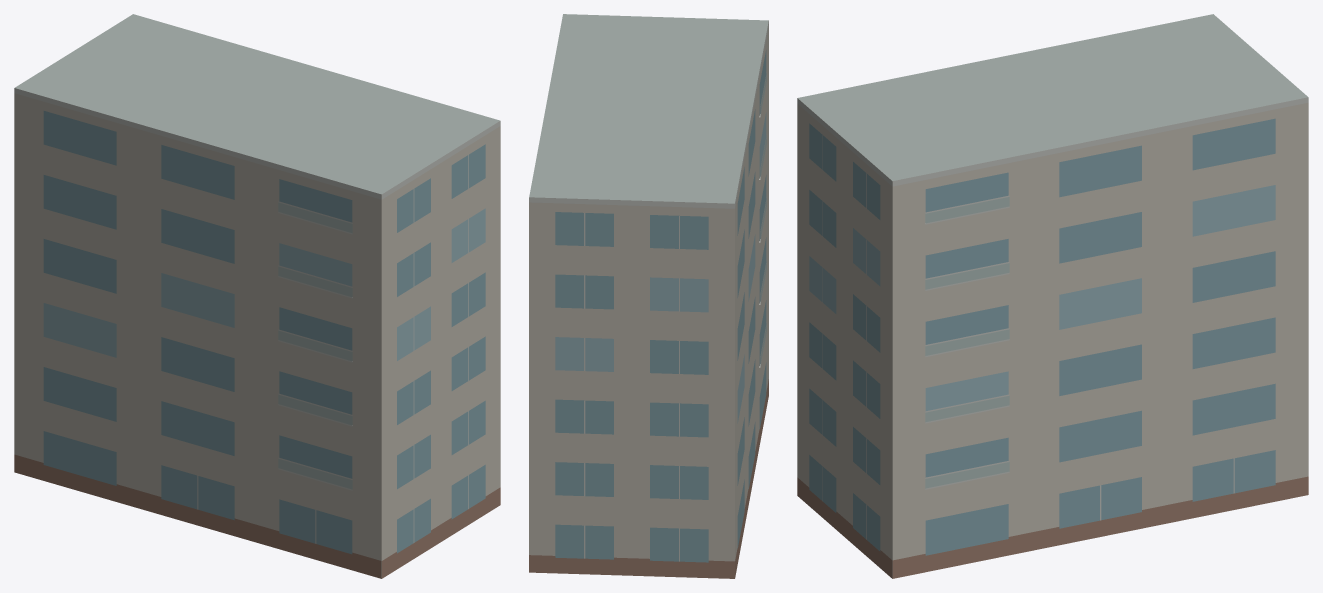
The model's file is survey-upis-33024657.glb.
The picture shows the model from 3 angles, left to right: view 1: azimuth 30°, elevation 25°; view 2: azimuth 150°, elevation 25°; view 3: azimuth 270°, elevation 25°; orthographic projection. The views are drawn at different scales.
Visible parts, largest first — view 1: survey-upis-33024657.tmp; view 2: survey-upis-33024657.tmp; view 3: survey-upis-33024657.tmp.
Part boxes in pixels (x1,y1,x2,y2): survey-upis-33024657.tmp: (14, 14, 500, 578); survey-upis-33024657.tmp: (529, 14, 768, 578); survey-upis-33024657.tmp: (797, 14, 1308, 578).
Size of the model in its own units: 16.15 by 17.9 by 20.86.
